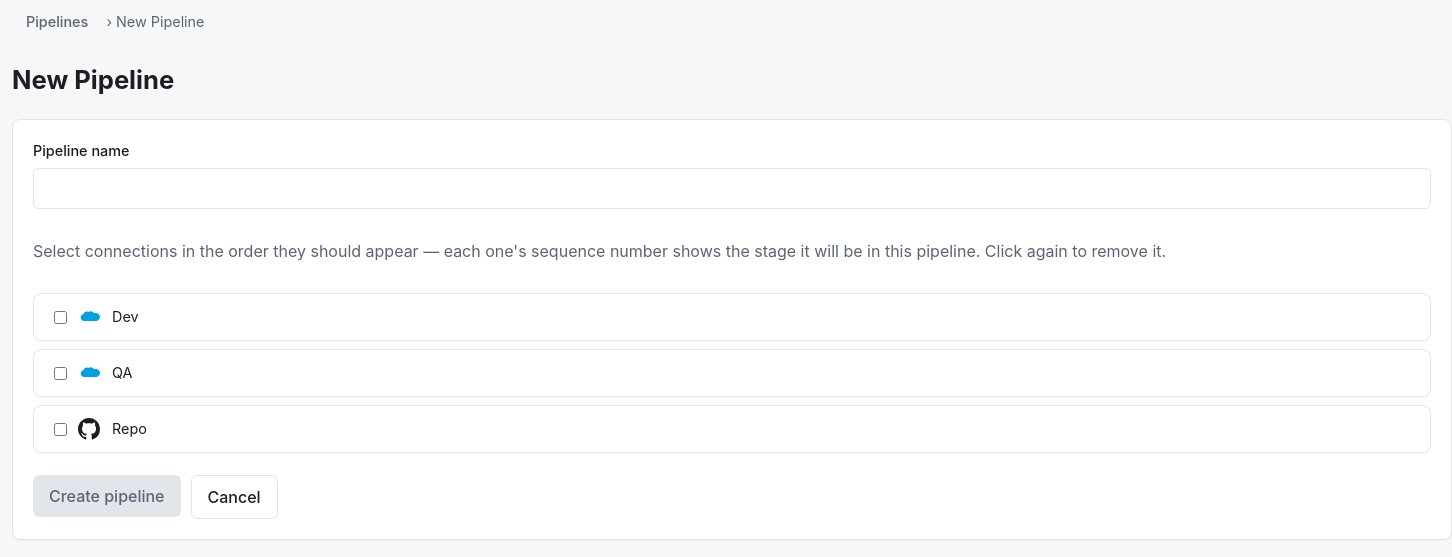
NewPipeline page › numbers connections by the order they're selected in, and renumbers when one is removed
Expected: the checkbox labelled "Dev" is shown, [54, 311, 67, 324]
Click the checkbox labelled "QA" at (60, 373), box [54, 367, 67, 380]
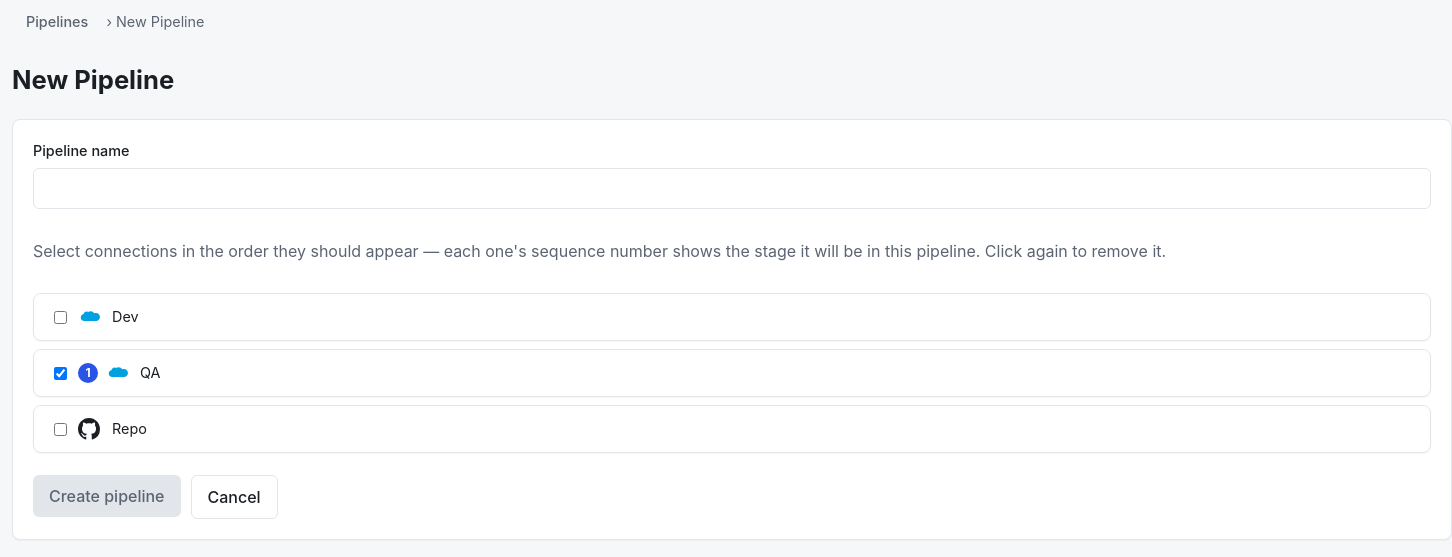
Click the checkbox labelled "Dev" at (60, 317), box [54, 311, 67, 324]
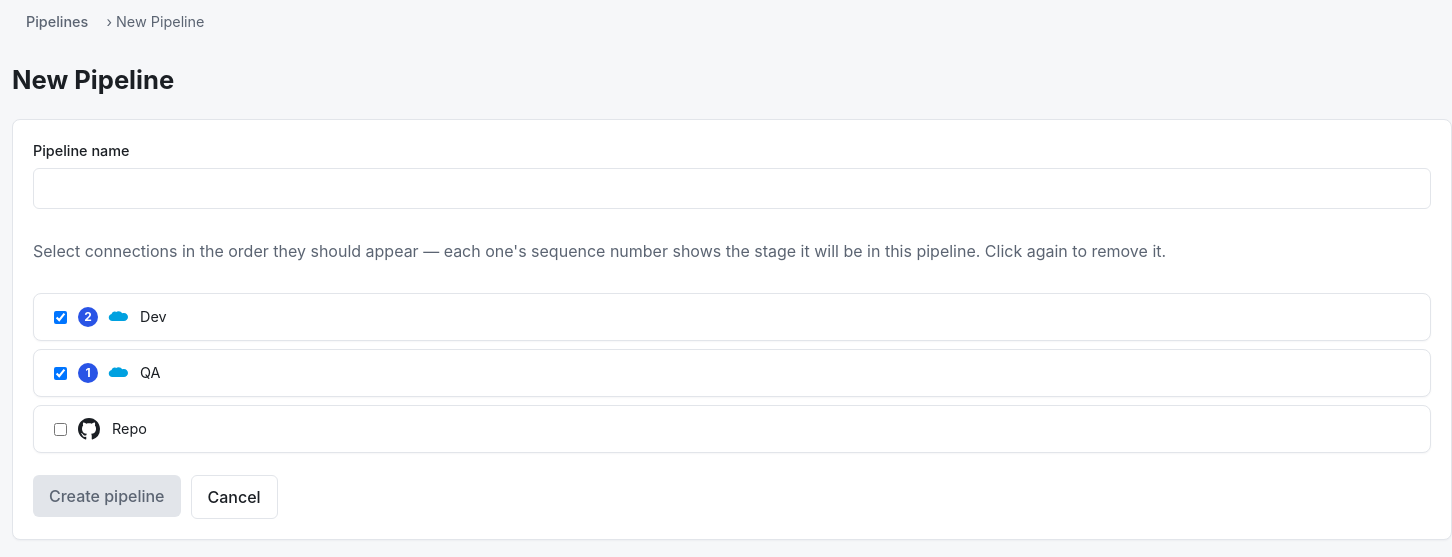
Click the checkbox labelled "Repo" at (60, 429), box [54, 423, 67, 436]
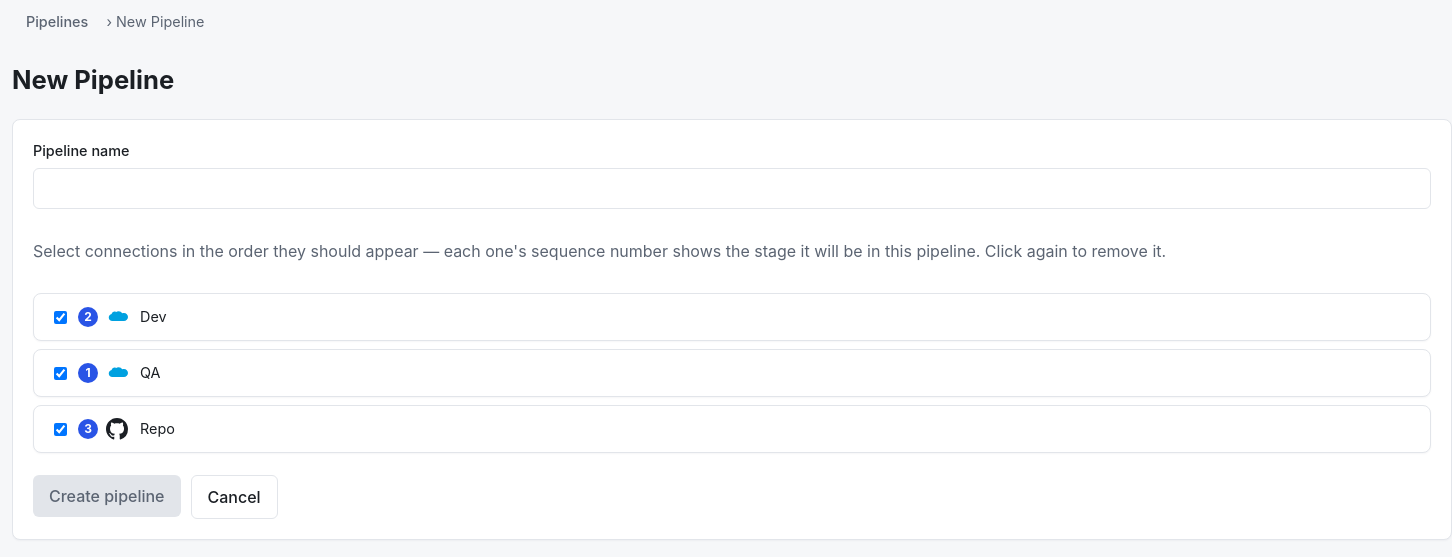
Now the label labelled "1 QA" is shown, box [50, 362, 160, 384]
Now the label labelled "2 Dev" is shown, box [50, 306, 167, 328]
Now the label labelled "3 Repo" is shown, box [50, 418, 175, 440]
# Removing the first pick renumbers the rest rather than leaving a gap.
Click the checkbox labelled "1 QA" at (60, 373), box [54, 367, 67, 380]
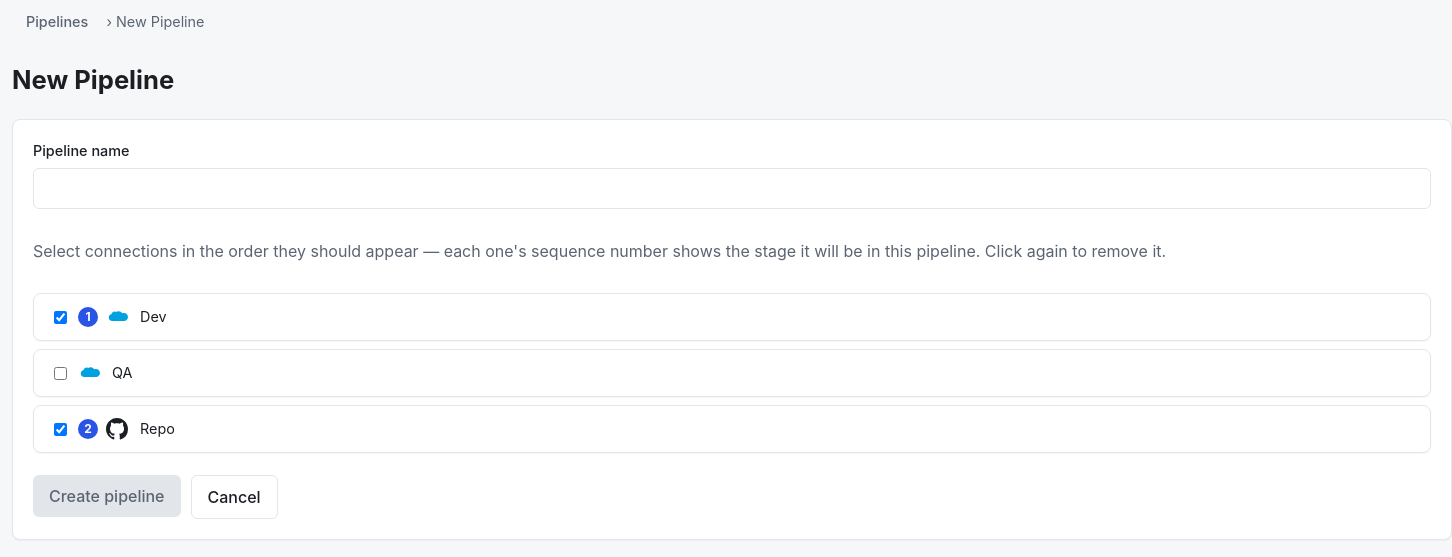
Now the label labelled "1 Dev" is shown, box [50, 306, 167, 328]
Now the label labelled "2 Repo" is shown, box [50, 418, 175, 440]
